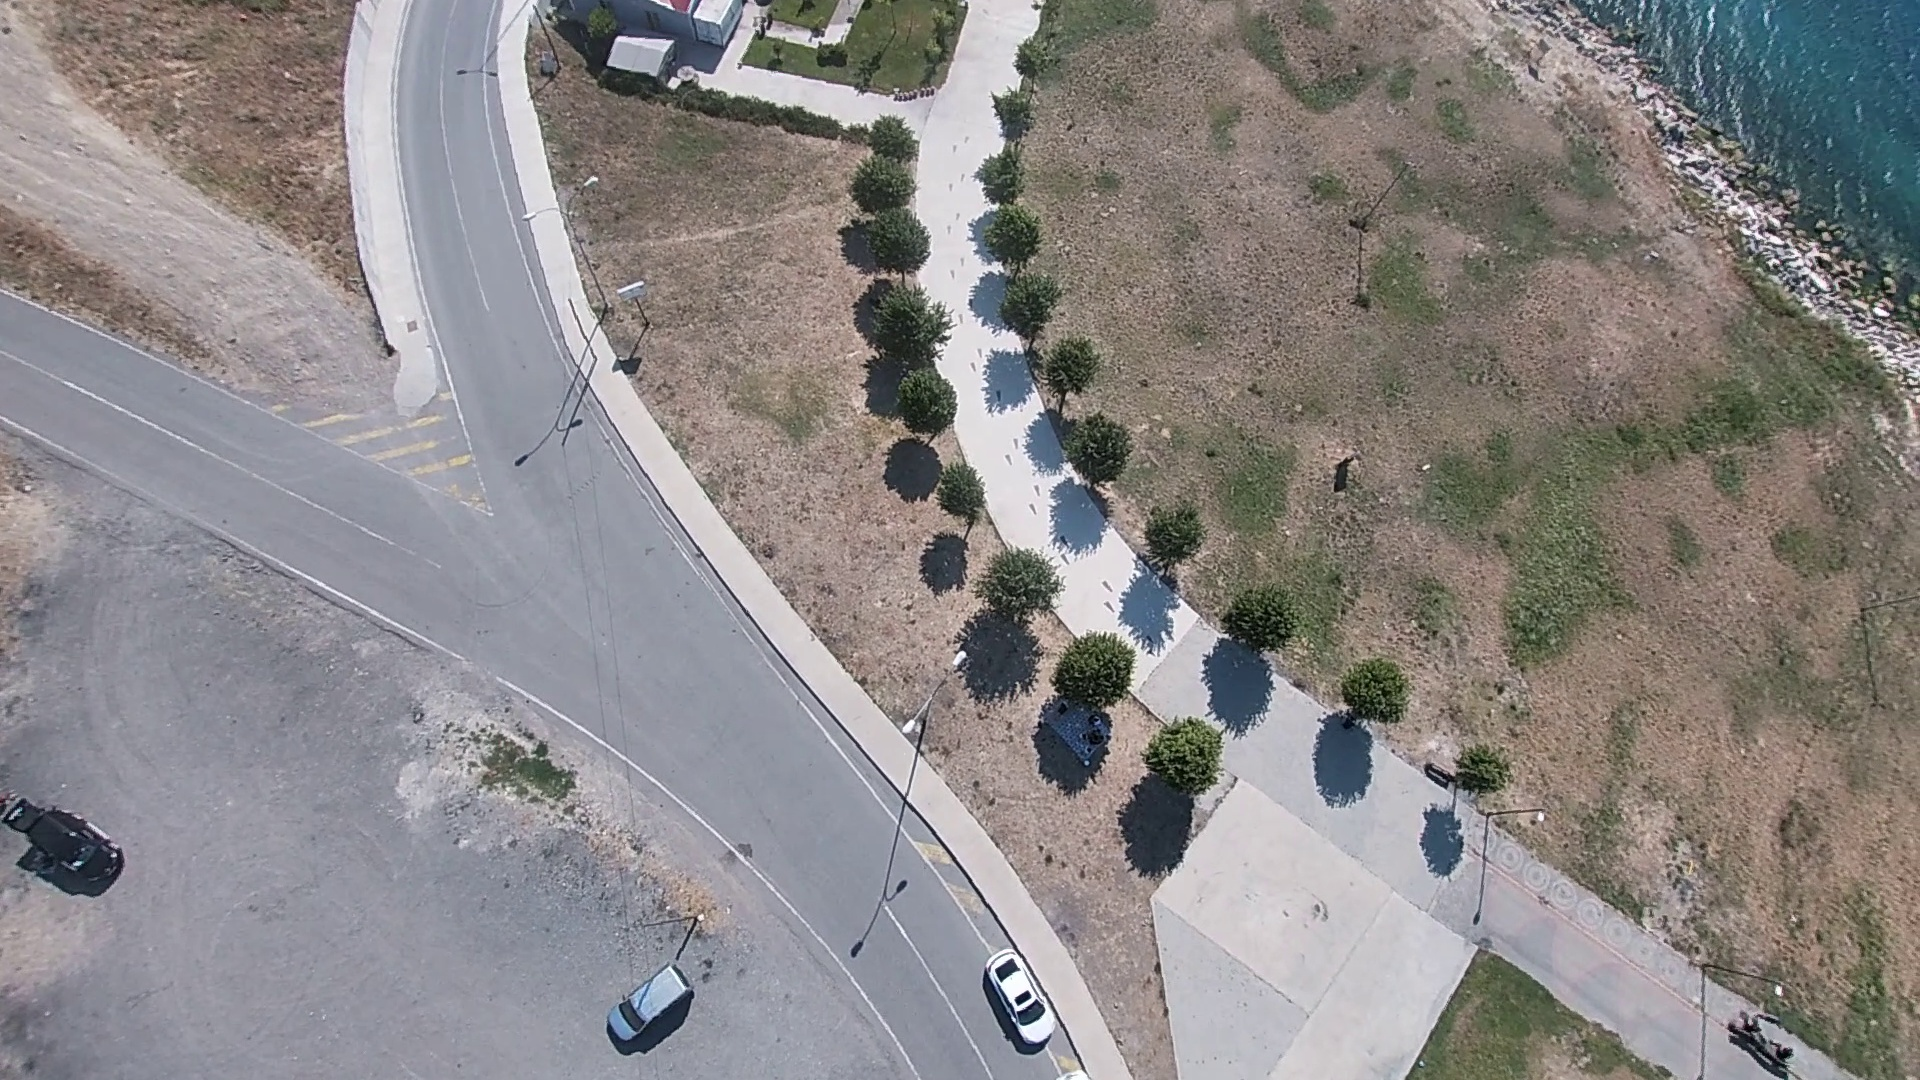arac: (0, 792, 128, 888), (982, 947, 1061, 1053), (602, 968, 684, 1045)
insan: (1330, 454, 1354, 494)
